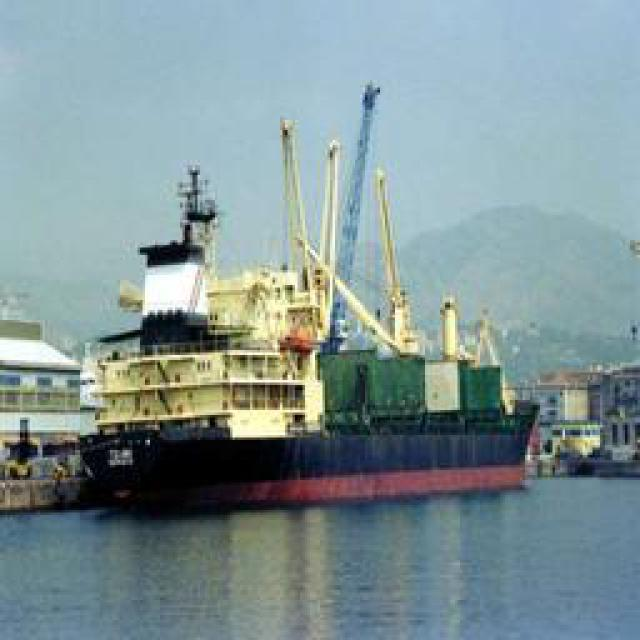Ship: (82, 70, 540, 500)
